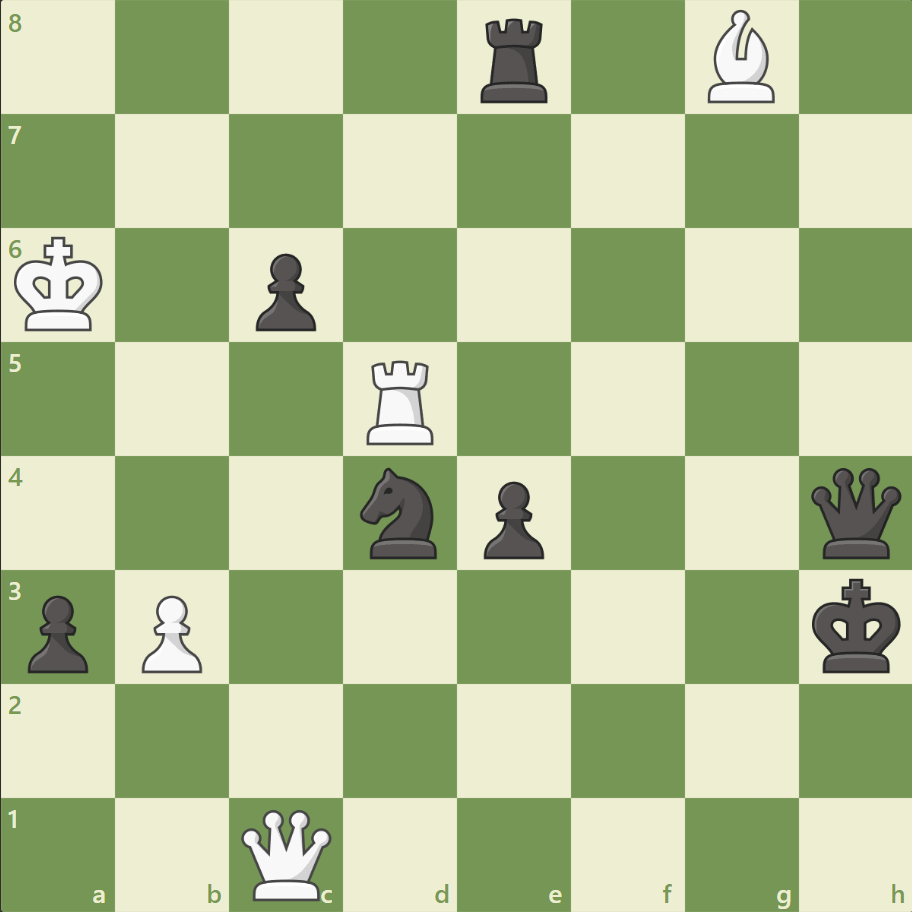B: (698, 6, 782, 109)
K: (11, 231, 111, 339)
P: (133, 586, 208, 677)
Q: (237, 804, 336, 903)
R: (360, 352, 442, 449)
k: (806, 571, 906, 679)
n: (351, 461, 449, 564)
p: (247, 246, 322, 337), (474, 473, 549, 564), (20, 586, 95, 677)
q: (805, 463, 904, 562)
r: (473, 12, 556, 109)
